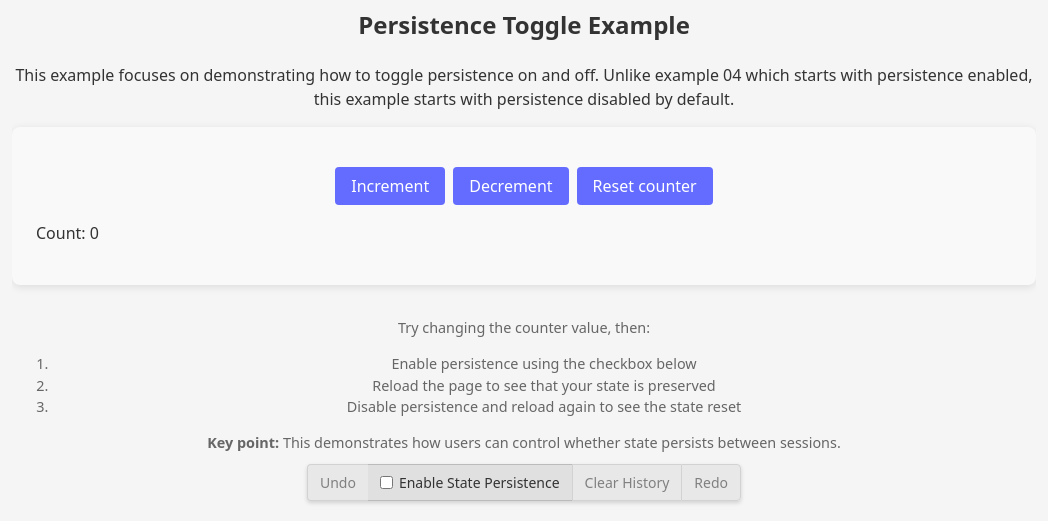
Test case: PersistentToggleCounter component › supports undo/redo operations
Expected: the text "Count: 0" is shown, [36,222,99,244]
# Increment counter twice
Click the button "Increment" at (390, 186), box [335,167,445,205]
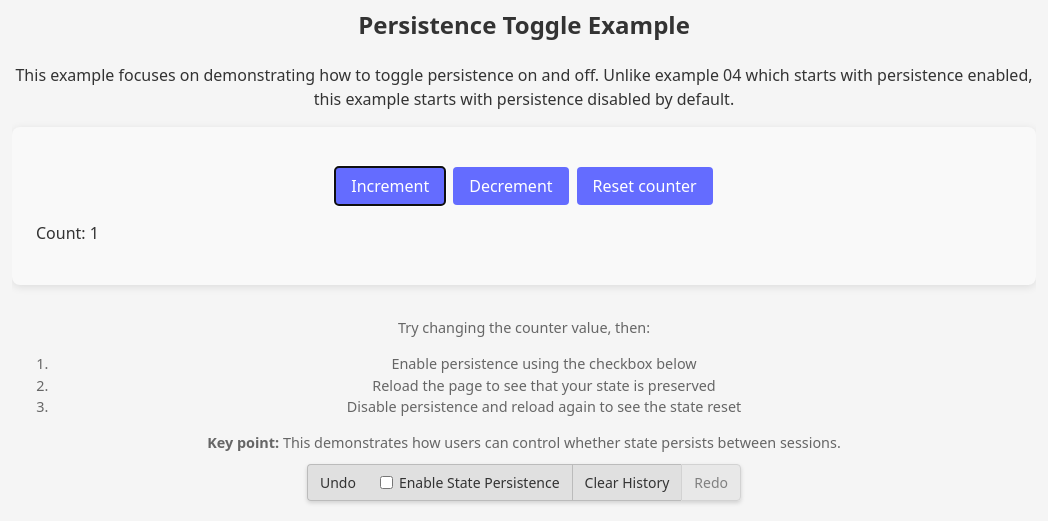
Click the button "Increment" at (390, 186), box [335,167,445,205]
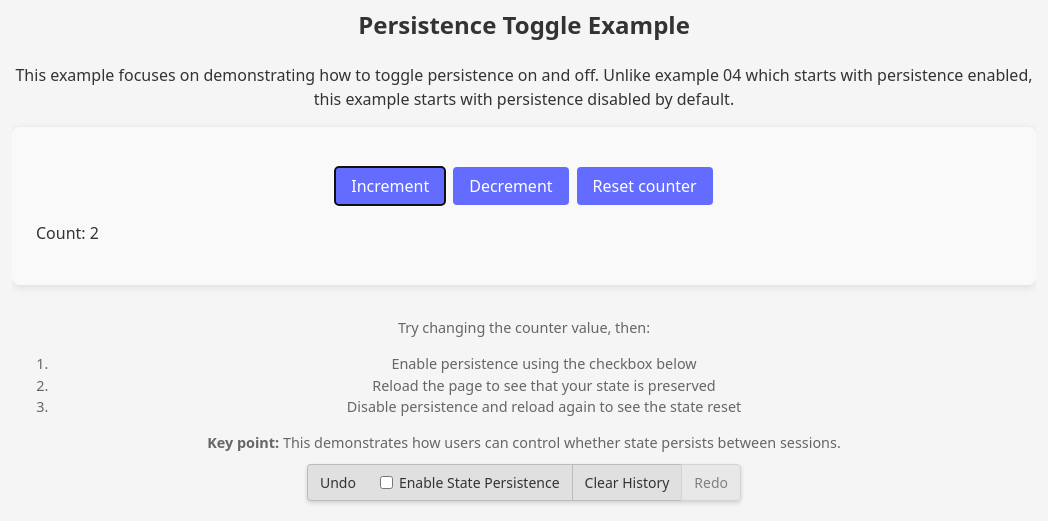
Now the text "Count: 2" is shown, box [36,222,99,244]
# Find and click the Undo button
Click the button "Undo" at (338, 482), box [307,464,368,501]
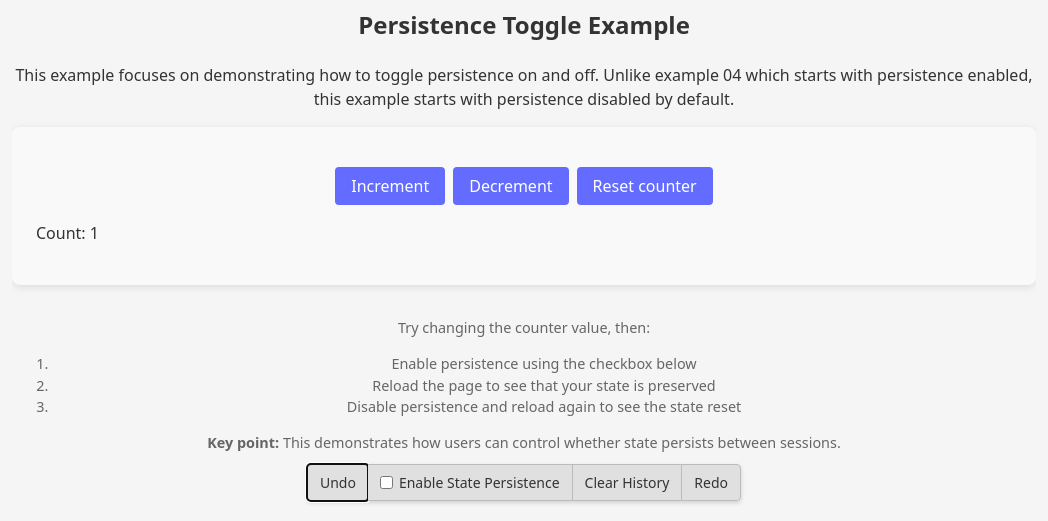
Now the text "Count: 1" is shown, box [36,222,99,244]
# Redo the operation
Click the button "Redo" at (711, 482), box [681,464,741,501]
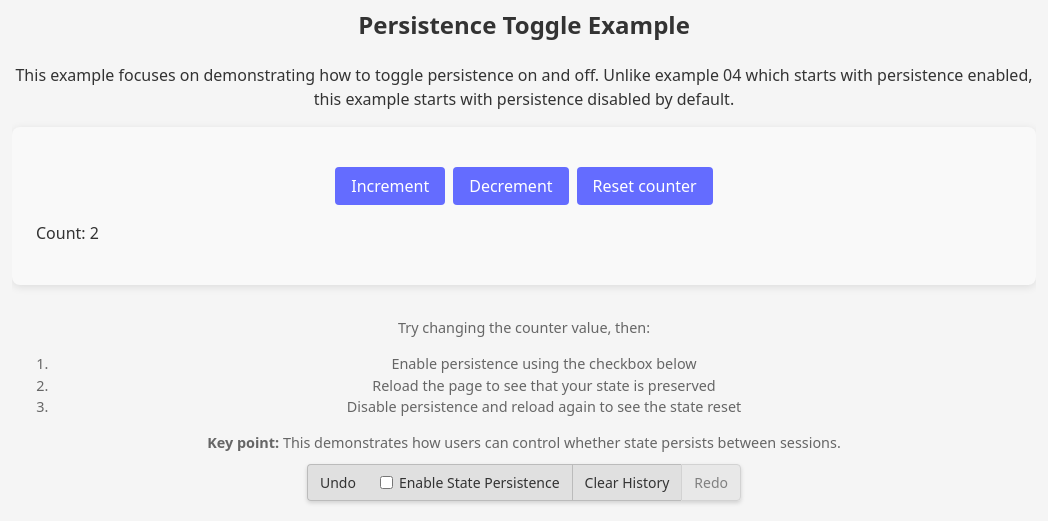
Now the text "Count: 2" is shown, box [36,222,99,244]
